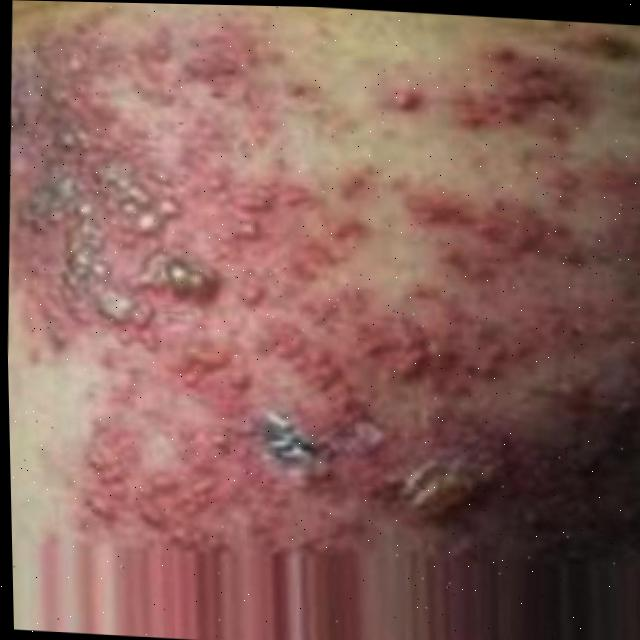Shingles: (0, 0, 640, 547)
